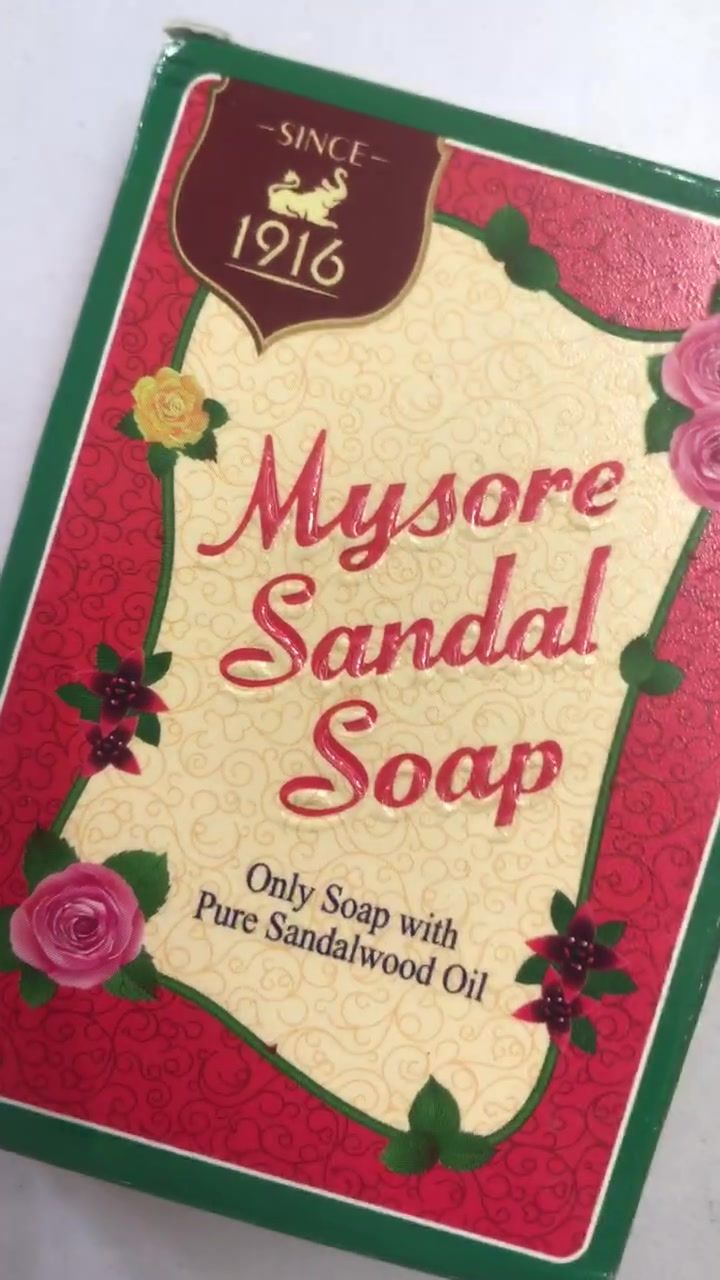mysore sandal soap: (37, 92, 713, 1166)
